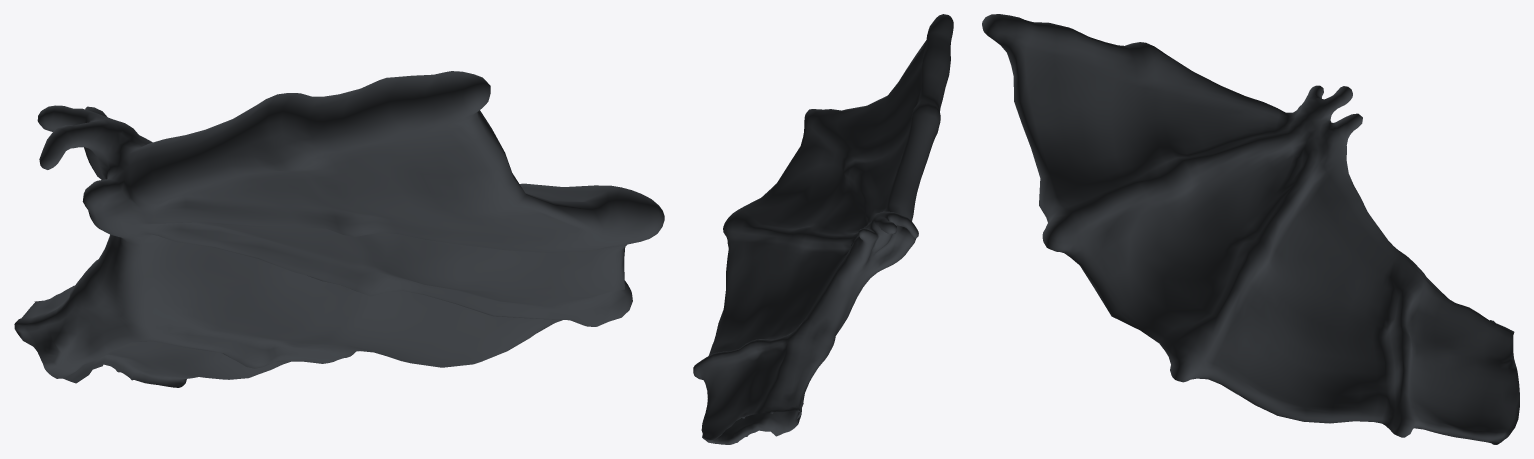
The model's file is ala_izquierda.obj.
The picture shows the model from 3 angles, left to right: view 1: azimuth 30°, elevation 25°; view 2: azimuth 150°, elevation 25°; view 3: azimuth 270°, elevation 25°; orthographic projection. The views are drawn at different scales.
Parts seen in each view (by area): view 1: ala_izquierda; view 2: ala_izquierda; view 3: ala_izquierda.
Boxes of the visible parts, left/top/right/bottom form: ala_izquierda: left=14, top=71, right=664, bottom=387; ala_izquierda: left=693, top=14, right=953, bottom=444; ala_izquierda: left=982, top=14, right=1519, bottom=444.
Bounding box in the file's own units: 6.31 × 7.45 × 9.04.
